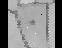good_void: (28, 20, 35, 25)
